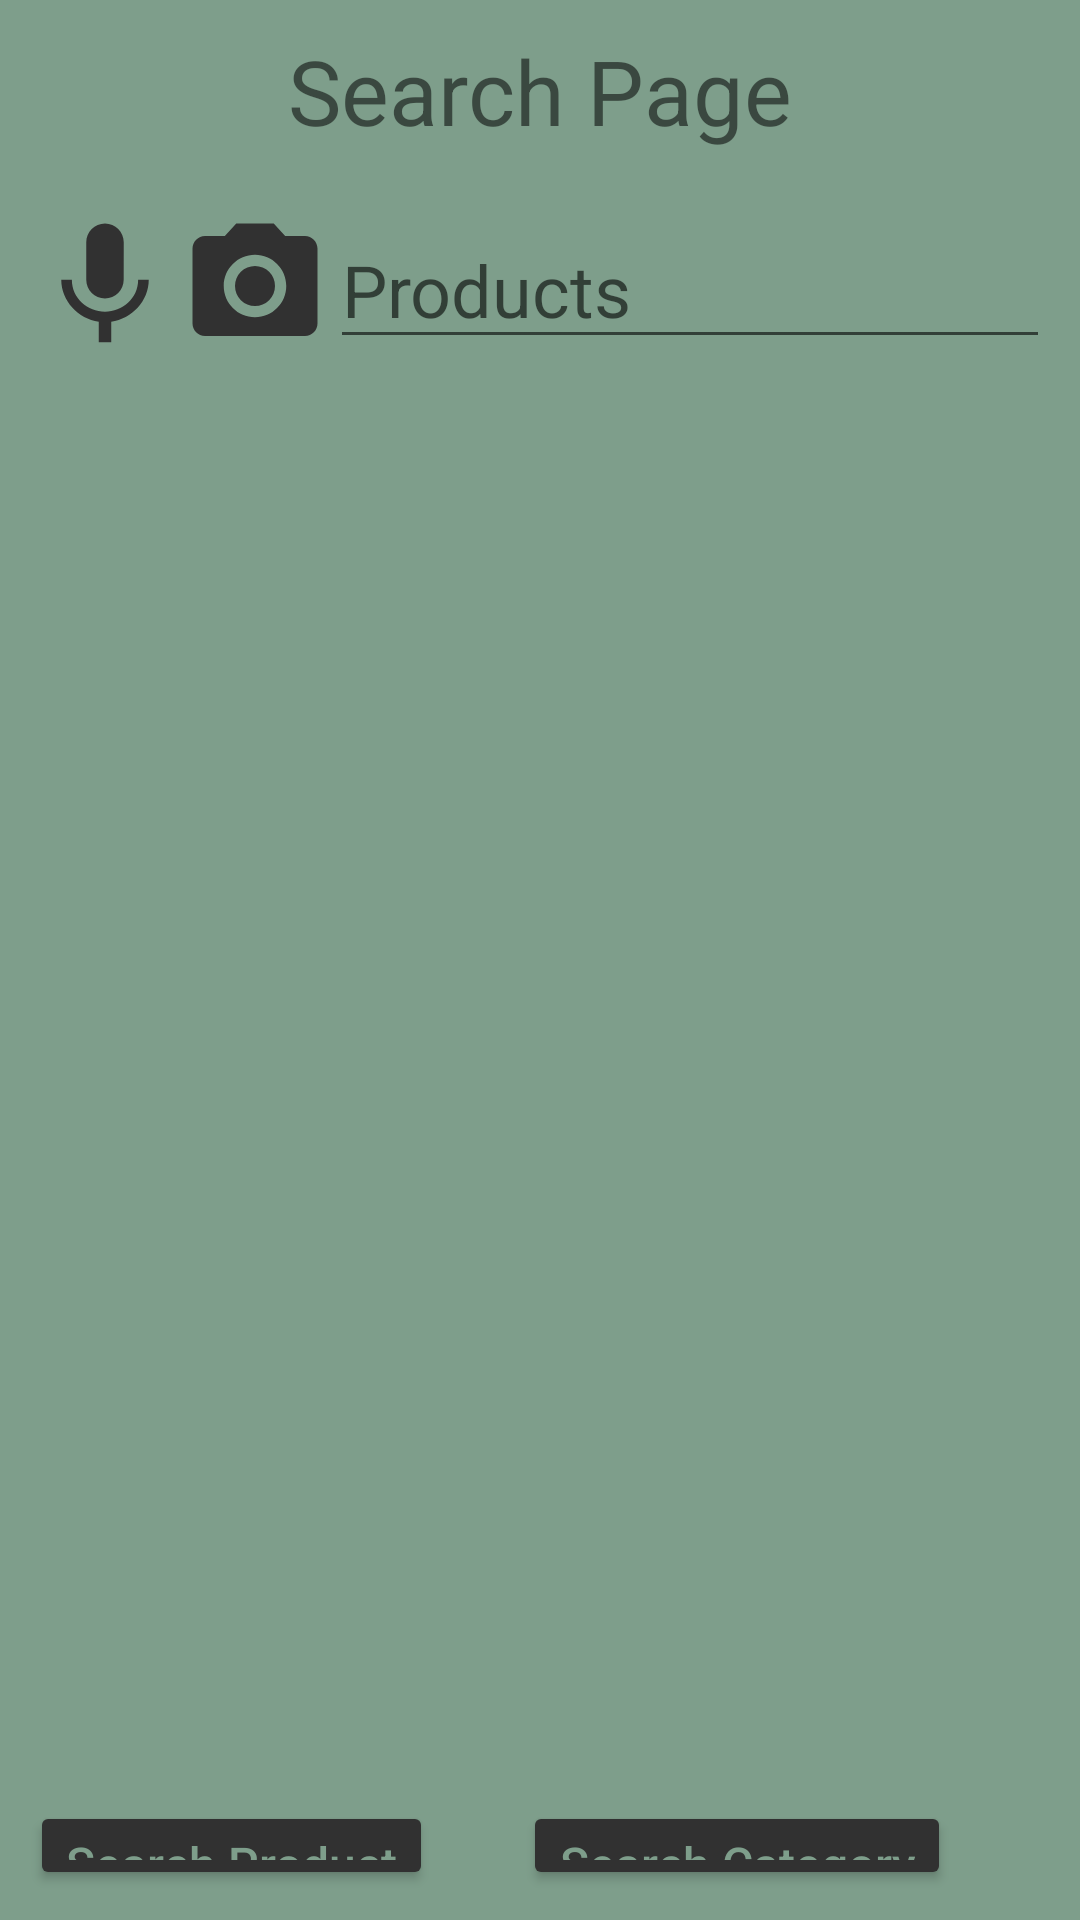

Locate icon controls on the screen. Image size 1080px×1920px, boxes as (left=x1, top=y1, right=x2, bottom=y2).
icmic: (left=61, top=223, right=149, bottom=343)
photocamera: (left=192, top=223, right=318, bottom=336)
